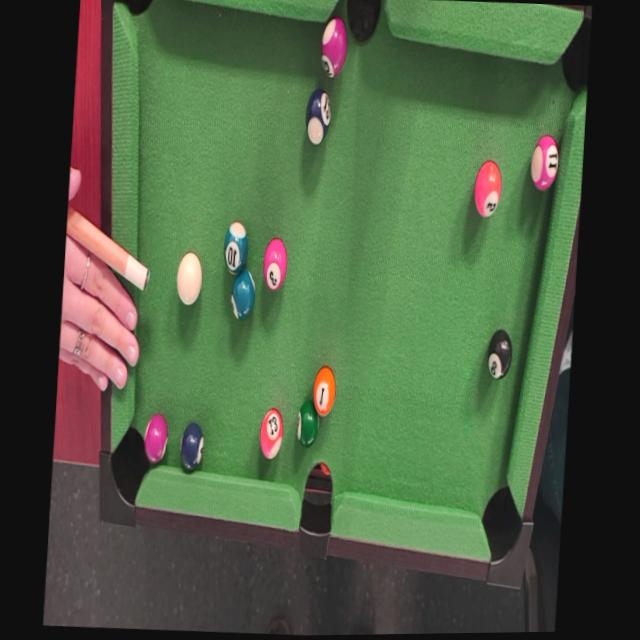cue ball: (173, 243, 208, 308)
other: (526, 130, 565, 192), (470, 154, 505, 221), (220, 210, 252, 279), (319, 7, 348, 78), (177, 417, 209, 479), (308, 359, 340, 421), (303, 82, 334, 144), (292, 397, 326, 452), (139, 413, 171, 471), (260, 231, 289, 293), (230, 265, 258, 329), (257, 404, 286, 464), (487, 328, 515, 382)
